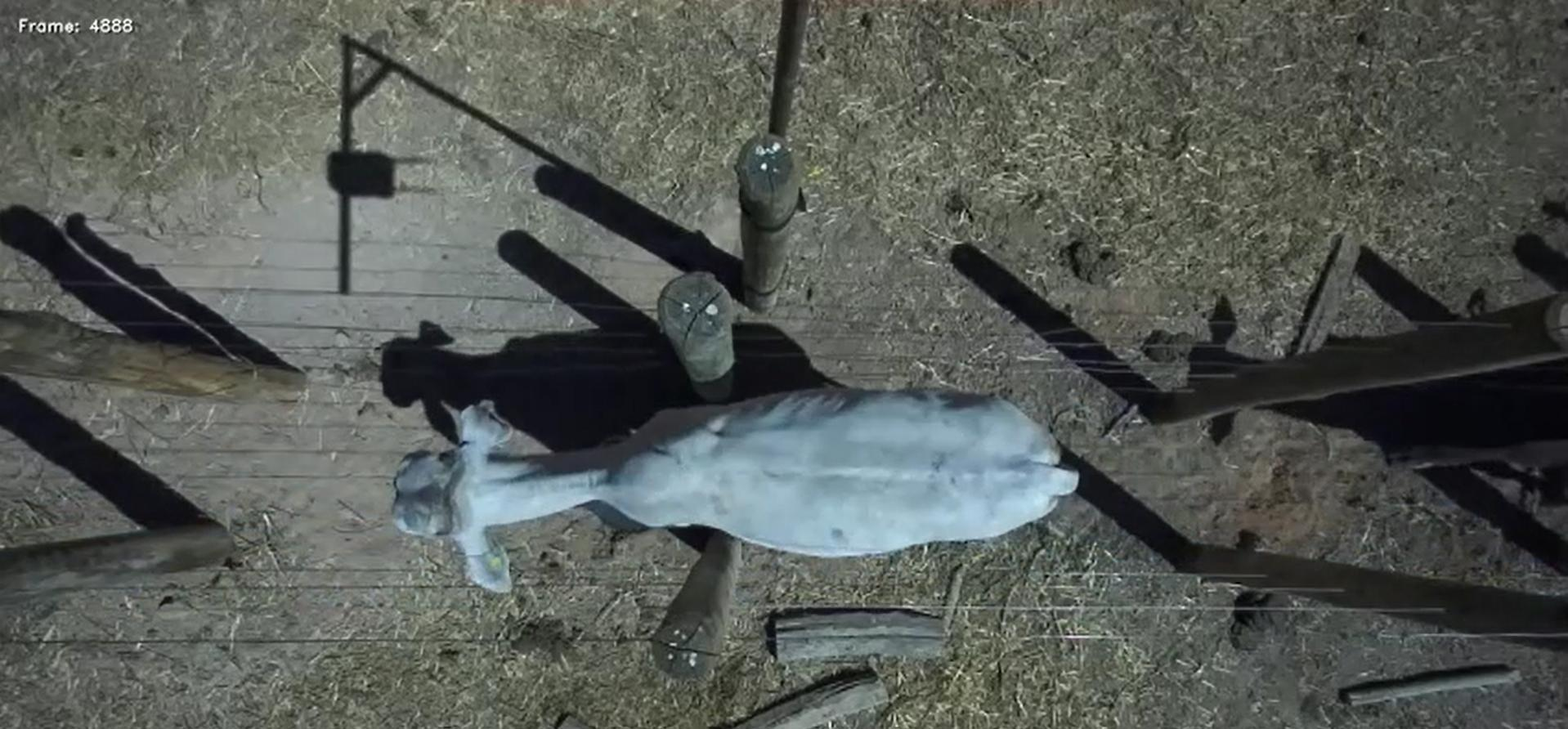cattle: (389, 383, 1081, 601)
